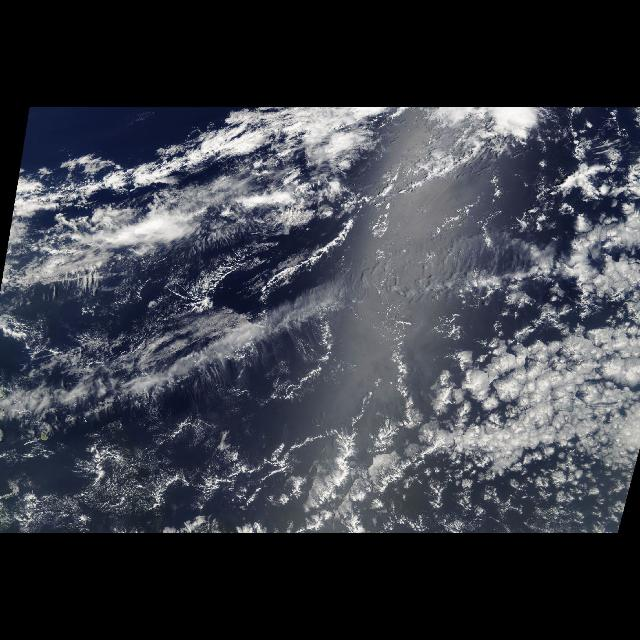Flower: (424, 348, 496, 419)
Gravel: (56, 377, 332, 521)
Sugar: (404, 304, 640, 528), (34, 417, 262, 533), (130, 253, 240, 309), (268, 346, 344, 404)
